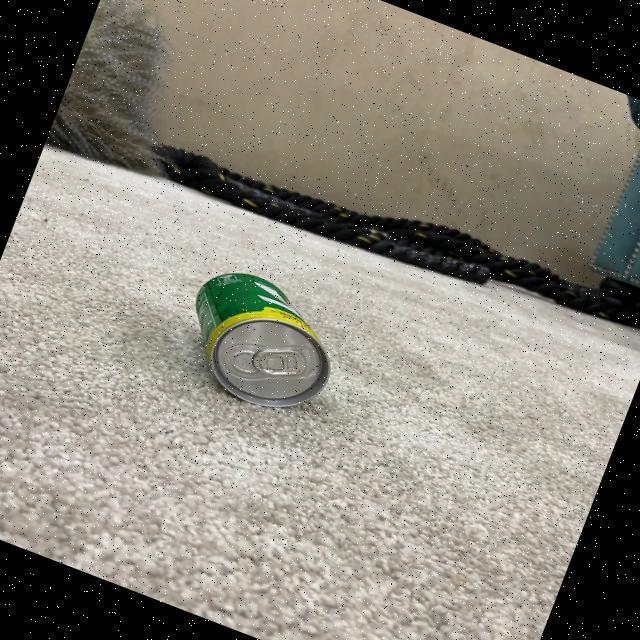debris: (162, 250, 358, 428)
